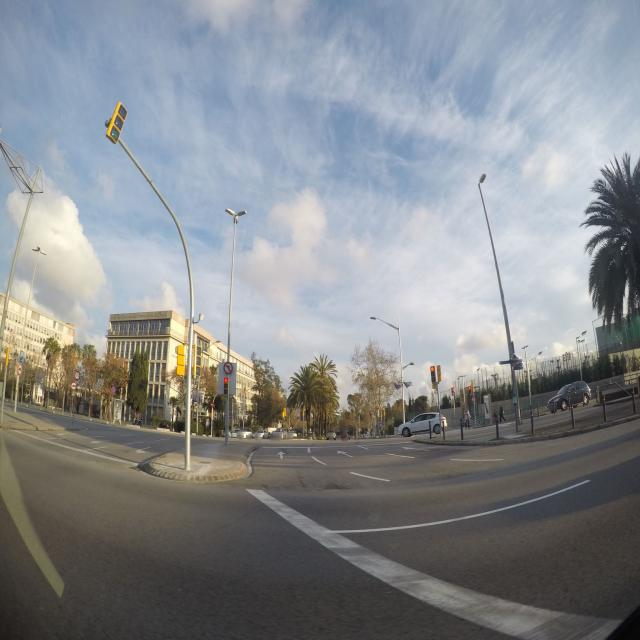forb_stopping: (112, 387, 115, 392)
